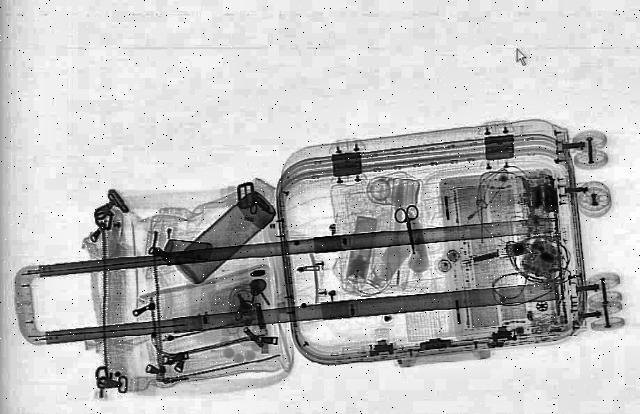Scissors: (390, 204, 430, 254)
